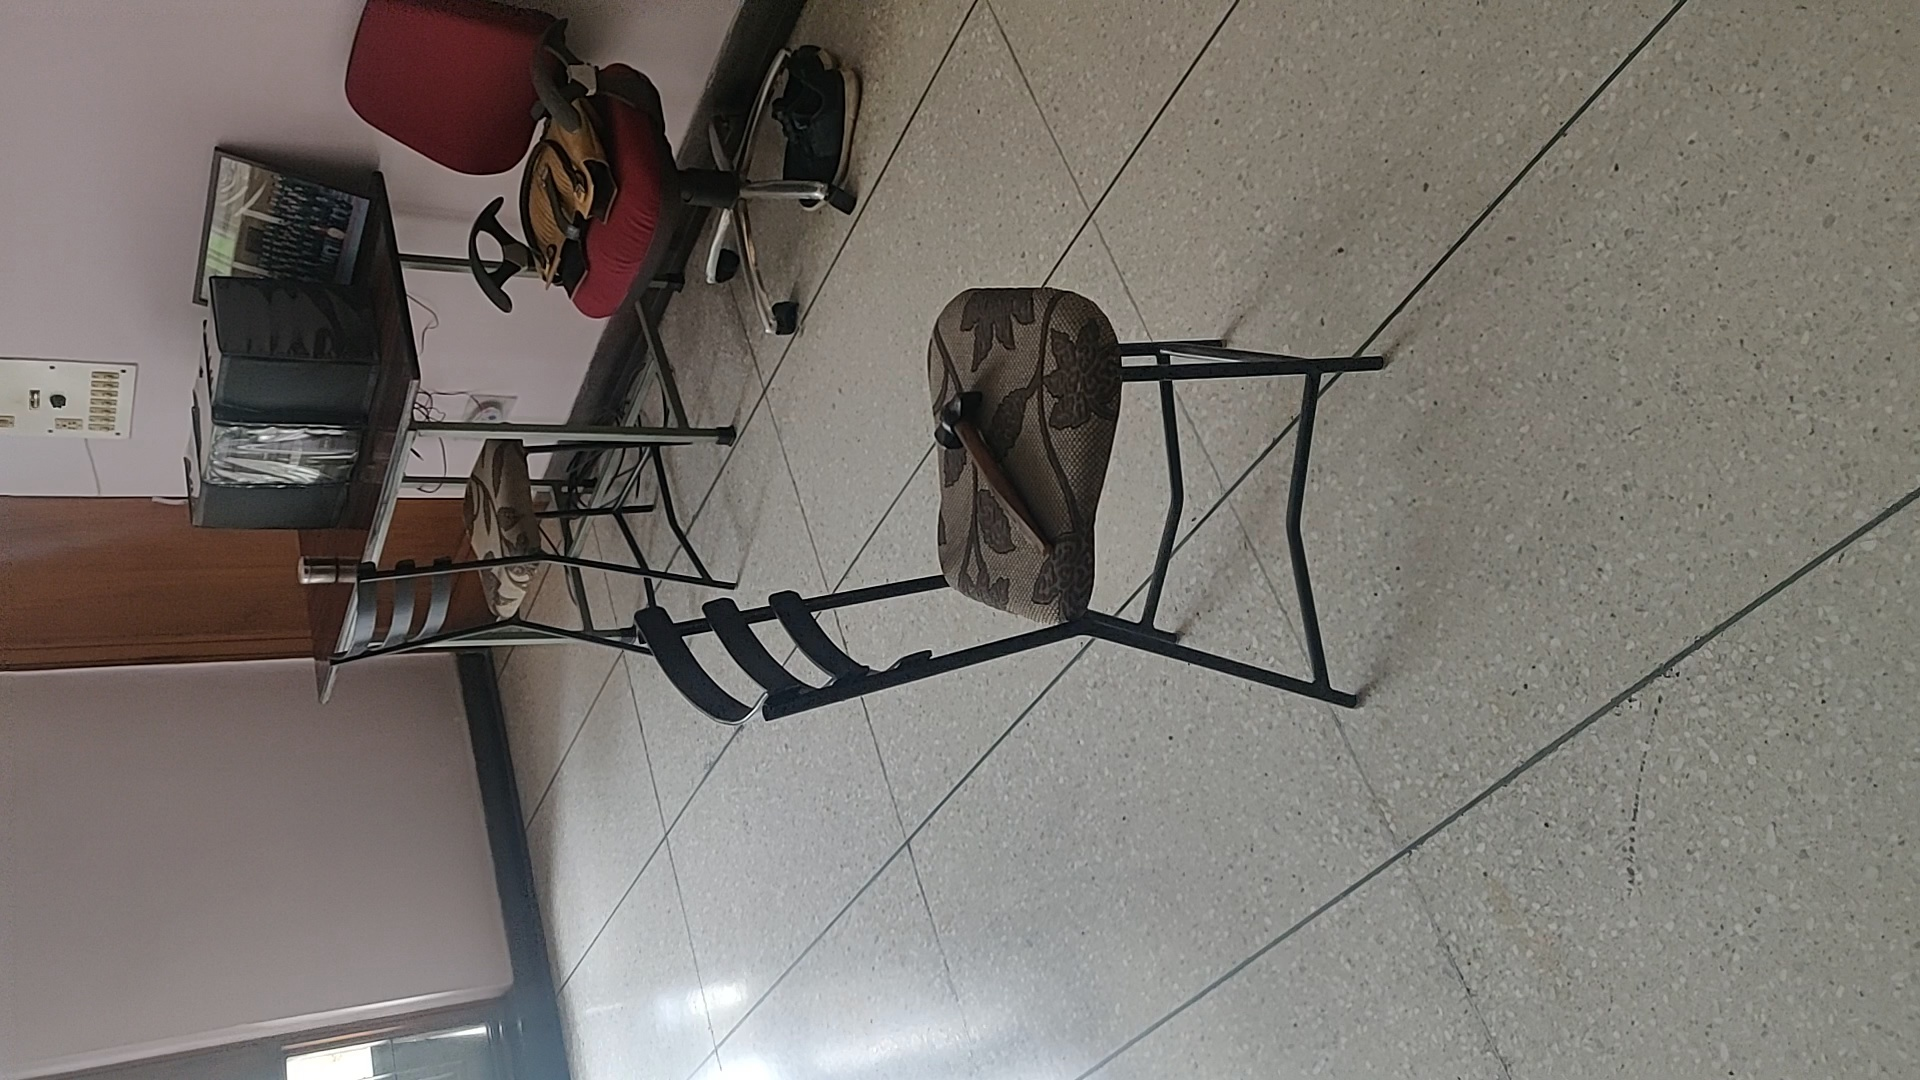hammer: (934, 389, 1044, 555)
